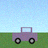vehicle: (12, 27, 37, 44)
